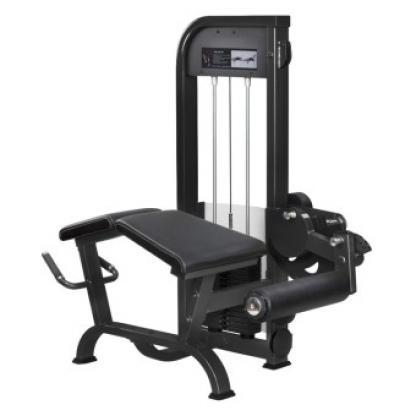reg curl machine: (35, 14, 373, 407)
